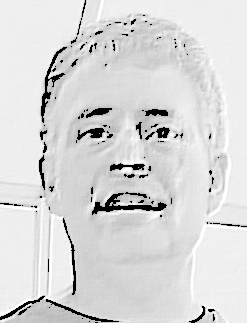nose_M_C: (106, 136, 152, 187)
